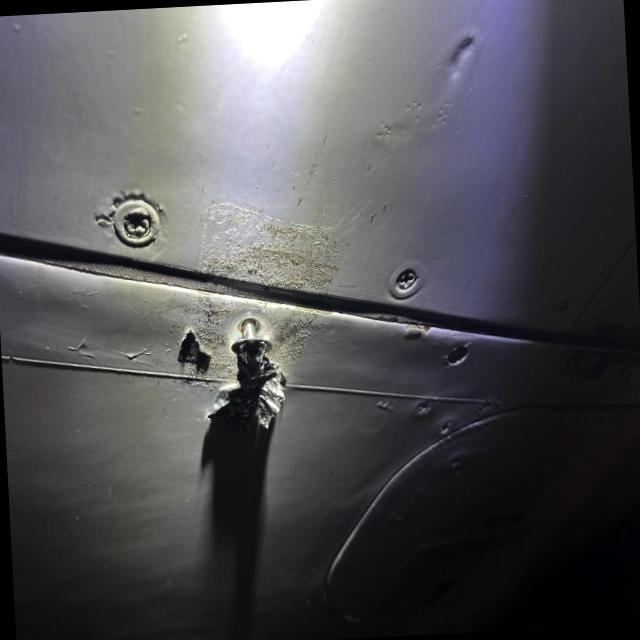Missing Fastener: (220, 316, 296, 451), (439, 333, 478, 372)
dent: (436, 22, 509, 88)
